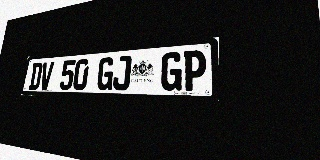0: (72, 59, 90, 90)
5: (59, 60, 76, 90)
D: (28, 62, 43, 90)
G: (160, 51, 183, 91), (96, 57, 115, 90)
J: (112, 55, 132, 90)
P: (182, 49, 206, 91)
V: (39, 61, 54, 90)
